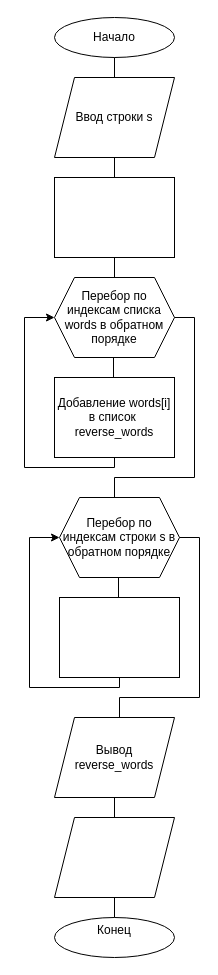
Image size: 218x975. Some labels were removed from this diagram. The box of each missing label's shape, as (x1, y1, x2, y2) in pixels:
Вывод reverse_letters: (54, 816, 174, 898)
Добавление s[i] в список reverse_letters: (58, 596, 180, 678)
Применение к строке s шаблона \S+ и сохранение в список words: (54, 176, 174, 258)
